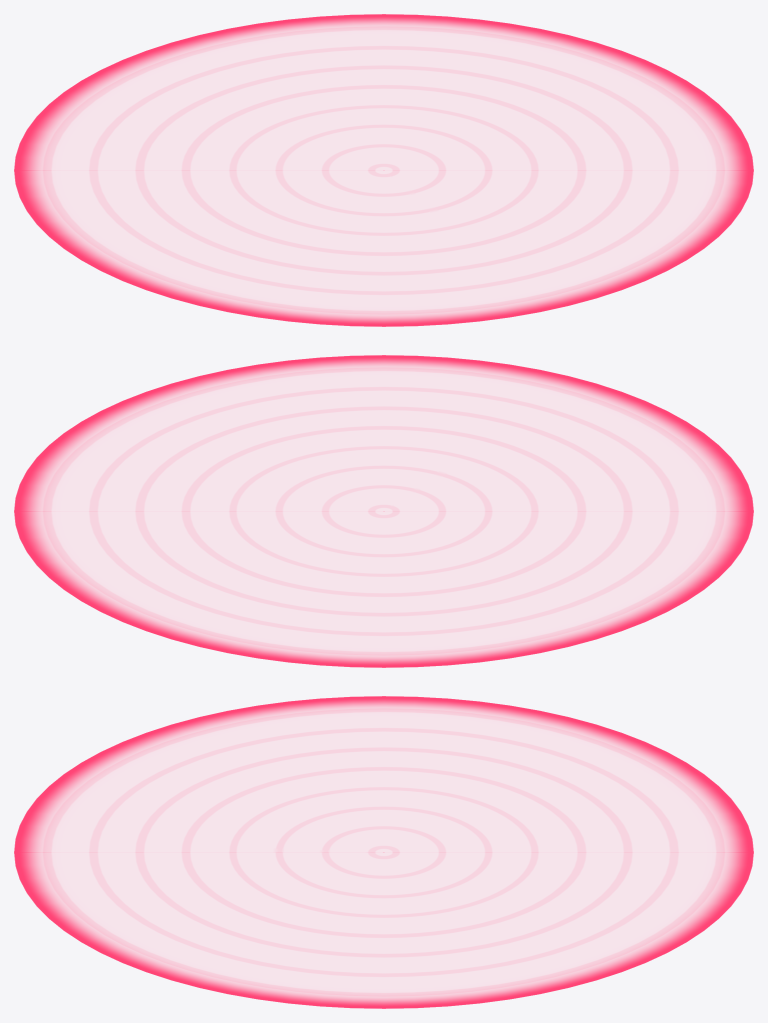
File: disc_crimson.glb
The picture shows the model from 3 angles, top to bottom: view 1: azimuth 30°, elevation 25°; view 2: azimuth 150°, elevation 25°; view 3: azimuth 270°, elevation 25°; orthographic projection.
Parts seen in each view (by area): view 1: disc; view 2: disc; view 3: disc.
Boxes of the visible parts, bbox=[...] form: disc: bbox=[14, 14, 753, 326]; disc: bbox=[14, 355, 753, 667]; disc: bbox=[14, 696, 753, 1008].
Size of the model in its own units: 2 by 0 by 2.
1 material, 1 textured.
